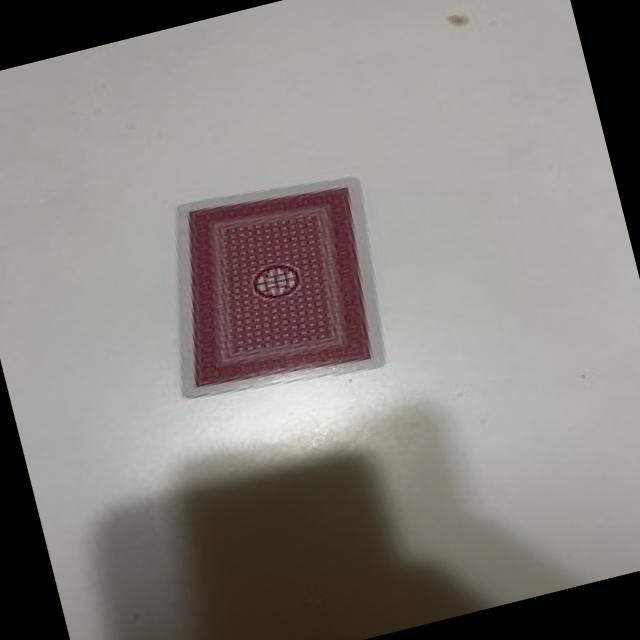card back: (181, 181, 382, 397)
